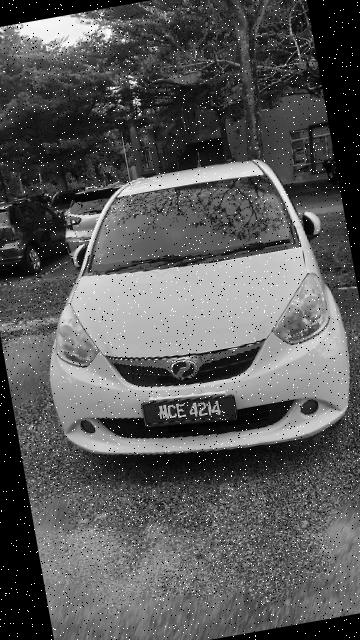License_Plate: (136, 383, 245, 441)
car: (15, 142, 360, 494)
